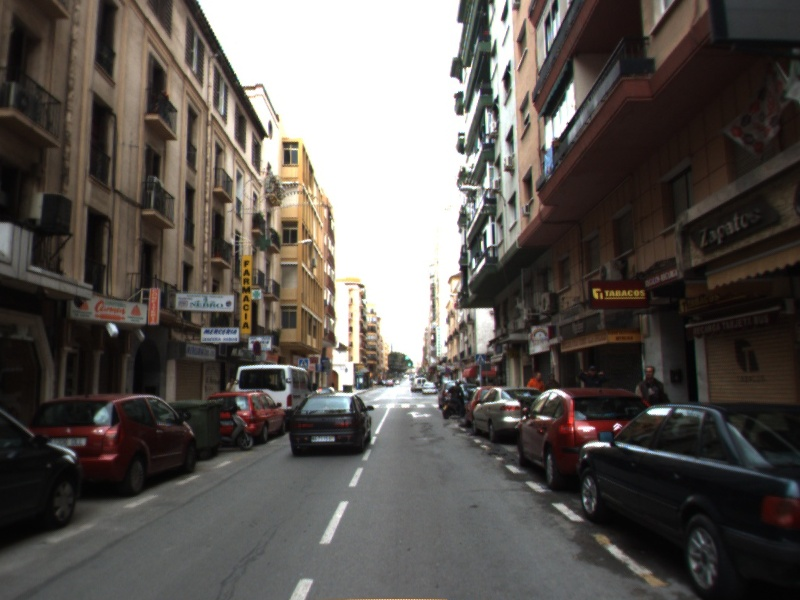STRAIGHT_RIGHT: (406, 410, 433, 419)
